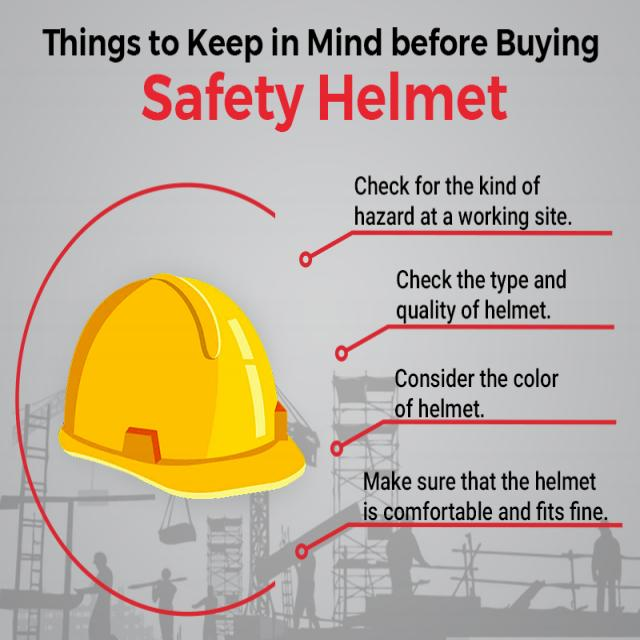Safety-Helmet: (44, 269, 310, 498), (158, 564, 176, 582)
